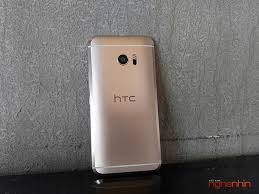htc: (86, 31, 166, 179)
